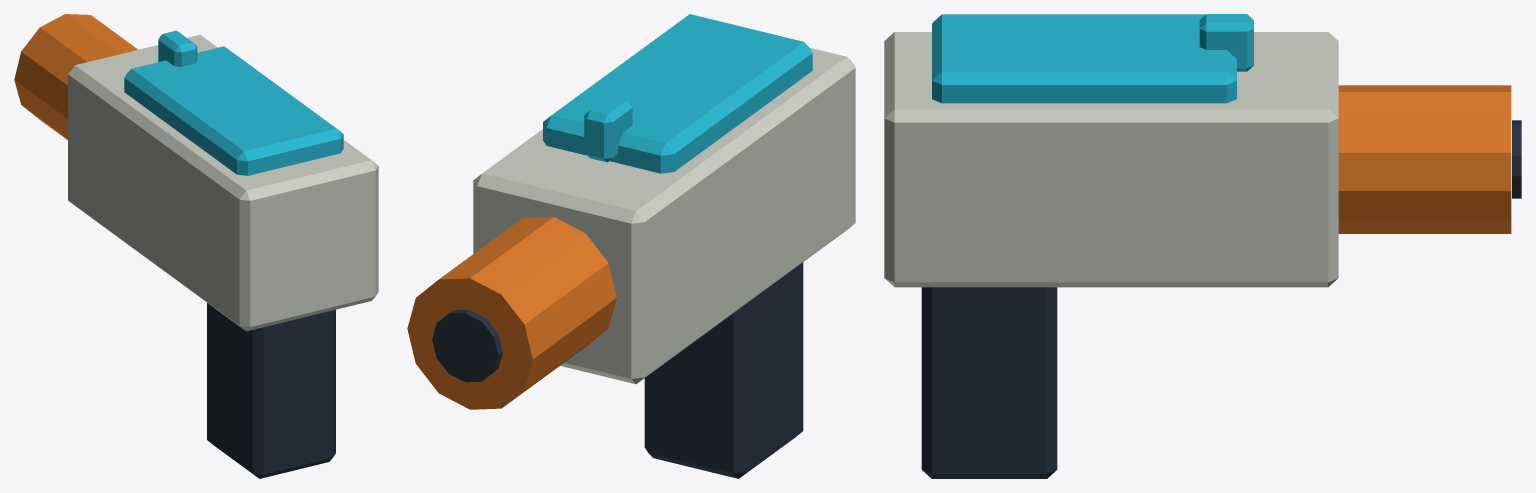
File: foam-dart.glb
3 views of the same model, side by side, from view 1: azimuth 30°, elevation 25°; view 2: azimuth 150°, elevation 25°; view 3: azimuth 270°, elevation 25° (orthographic). The views are drawn at different scales.
Visible parts, largest first — view 1: foam-dart_Body, foam-dart_Mechanism; view 2: foam-dart_Body, foam-dart_Mechanism; view 3: foam-dart_Body, foam-dart_Mechanism.
Boxes of the visible parts, x1=… form: foam-dart_Body: x1=14, y1=14, x2=378, y2=478; foam-dart_Mechanism: x1=124, y1=46, x2=343, y2=175; foam-dart_Body: x1=407, y1=47, x2=855, y2=478; foam-dart_Mechanism: x1=543, y1=14, x2=812, y2=173; foam-dart_Body: x1=884, y1=14, x2=1521, y2=478; foam-dart_Mechanism: x1=932, y1=14, x2=1236, y2=103.
Bounding box in the file's own units: 0.3 × 0.715 × 0.94.
